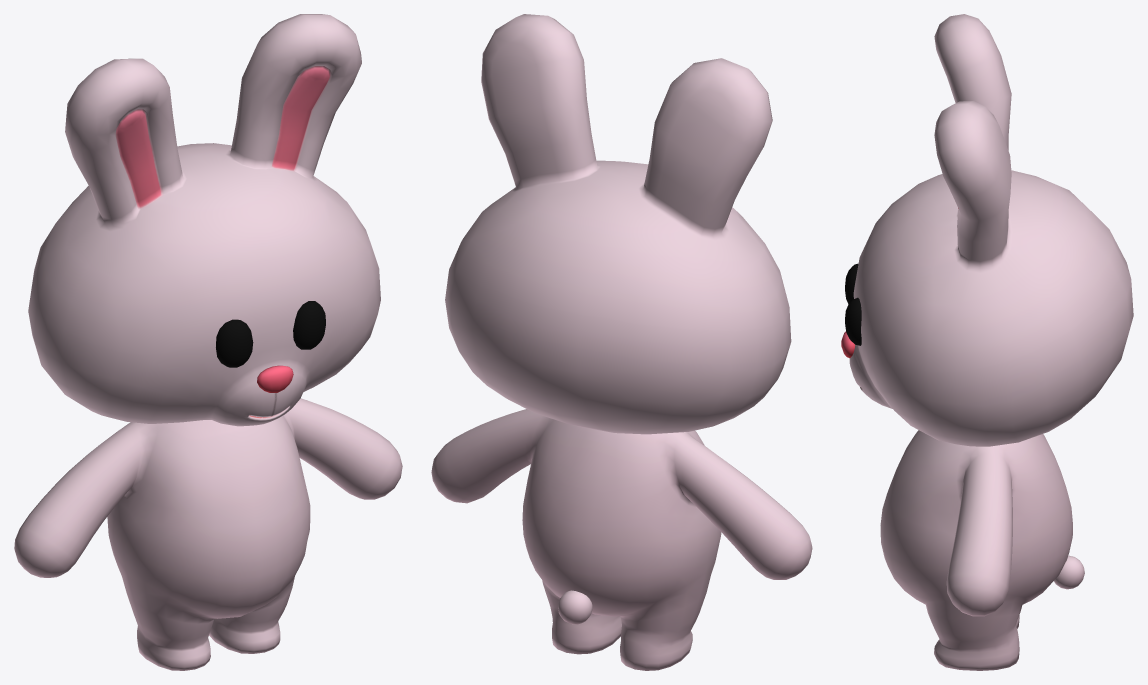
File: rabbit.glb
The picture shows the model from 3 angles, left to right: view 1: azimuth 30°, elevation 25°; view 2: azimuth 150°, elevation 25°; view 3: azimuth 270°, elevation 25°; orthographic projection. The views are drawn at different scales.
Parts seen in each view (by area): view 1: Rabbit; view 2: Rabbit; view 3: Rabbit.
Boxes of the visible parts, <box> form: Rabbit: <box>14,14,402,670</box>; Rabbit: <box>431,14,812,670</box>; Rabbit: <box>841,14,1133,670</box>.
Size of the model in its own units: 2.11 by 3.26 by 1.49.
1 material, 1 textured.
